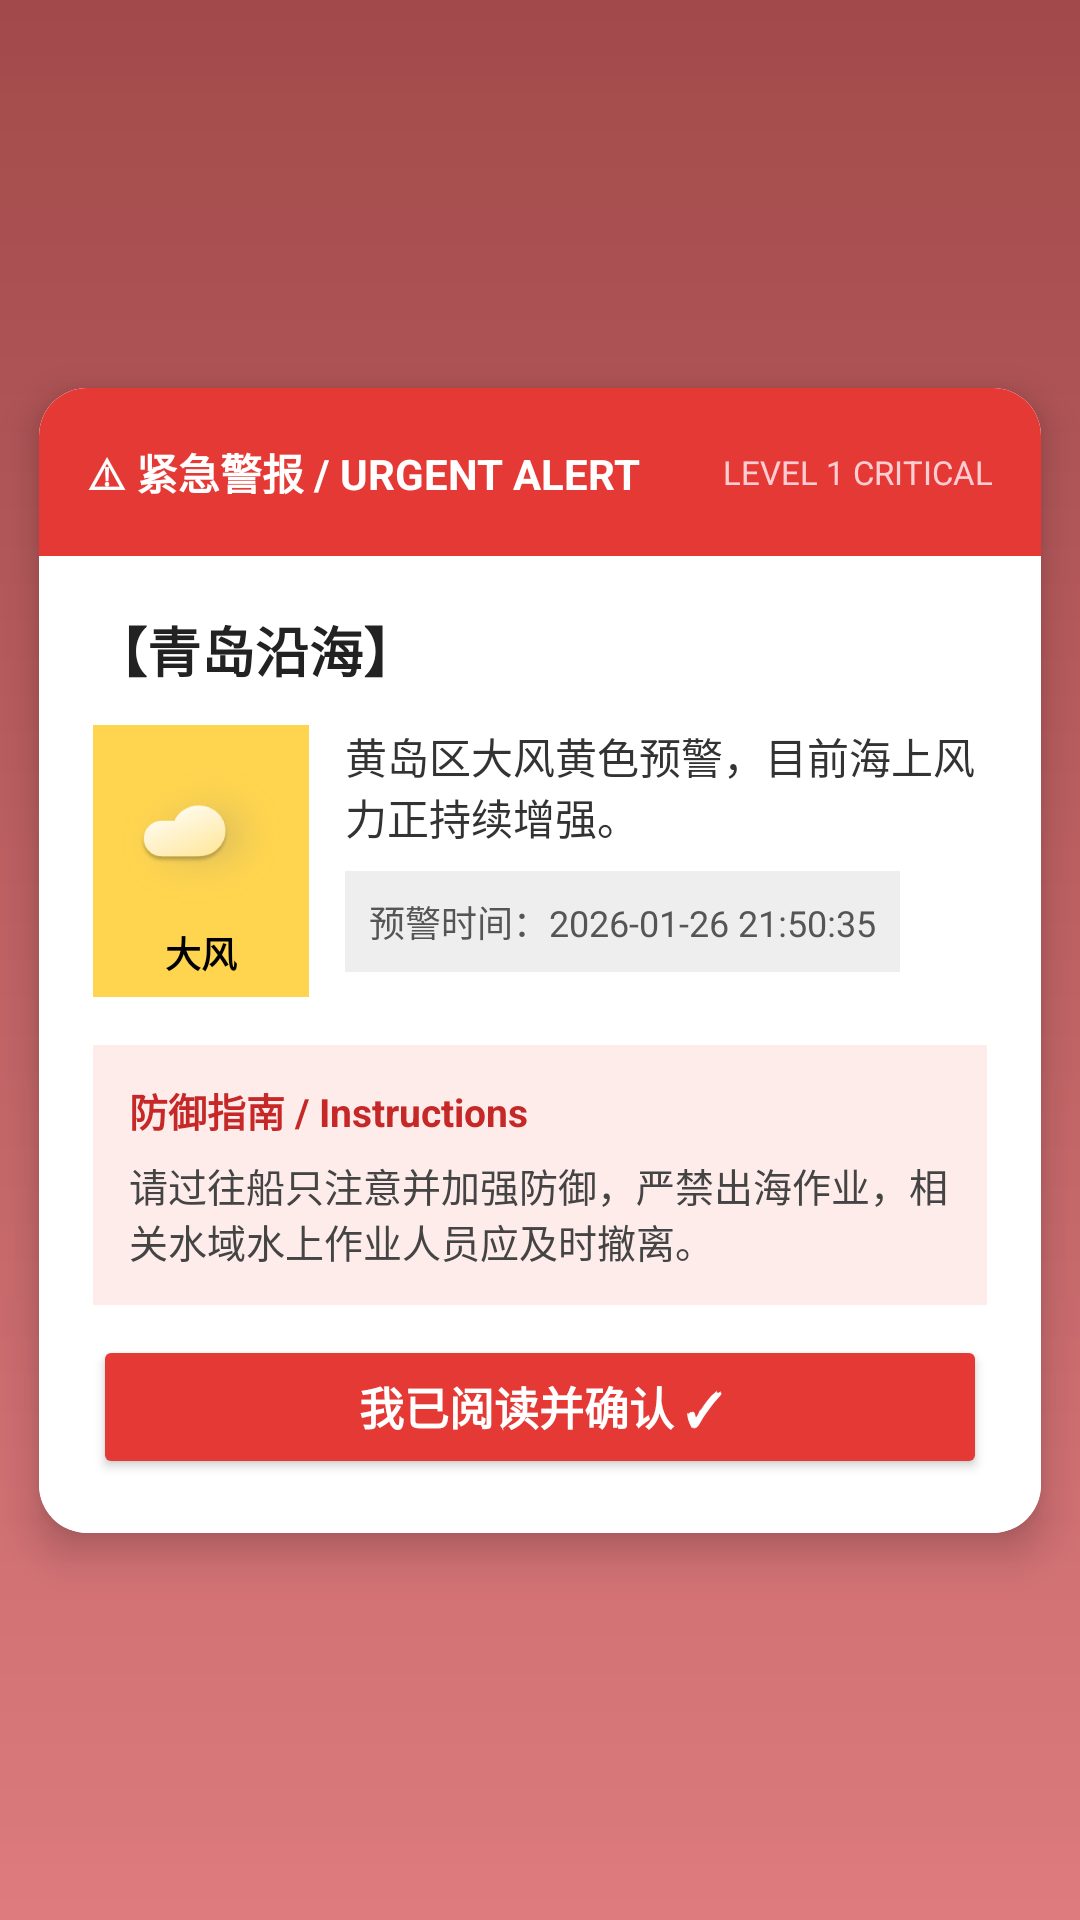

Icons on this 1080x1920 Android screen, each with the point to tap as (x,y):
cloudy sky: (185,833)
